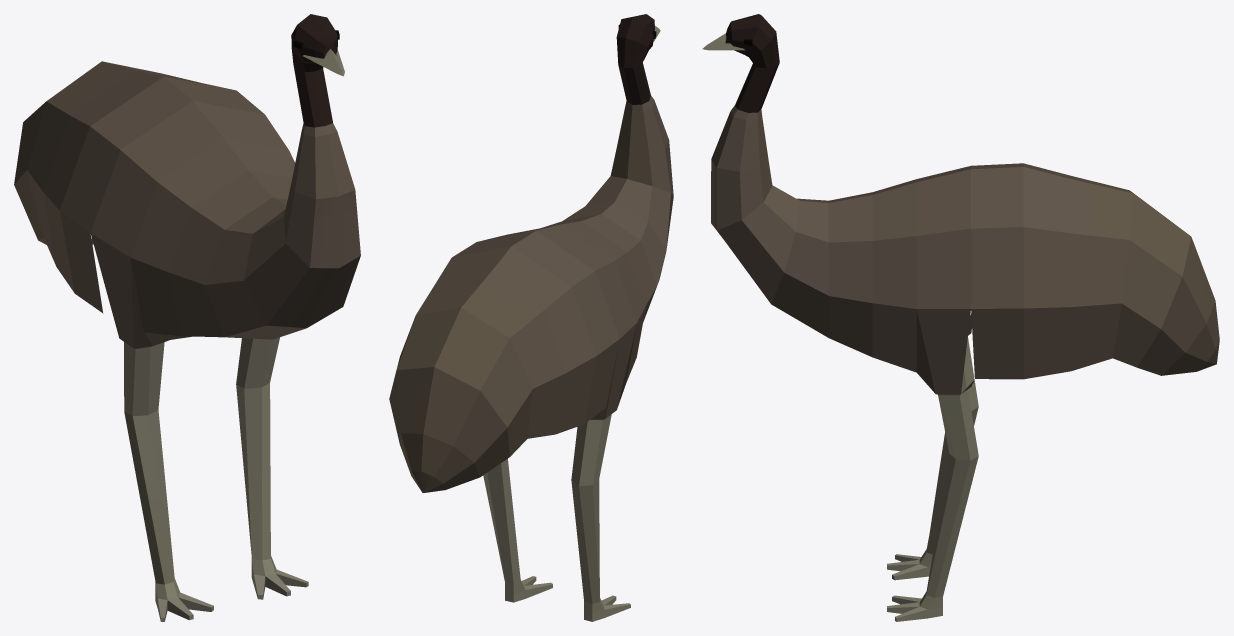
Rendered from prop_pz_emu.glb.
3 views of the same model, side by side, from view 1: azimuth 30°, elevation 25°; view 2: azimuth 150°, elevation 25°; view 3: azimuth 270°, elevation 25° (orthographic). The views are drawn at different scales.
Parts seen in each view (by area): view 1: Geo_Emu; view 2: Geo_Emu; view 3: Geo_Emu.
Part boxes in pixels (bbox=[...]): Geo_Emu: bbox=[14, 14, 360, 621]; Geo_Emu: bbox=[389, 14, 673, 621]; Geo_Emu: bbox=[702, 14, 1219, 621].
Size of the model in its own units: 59.65 by 178 by 145.
1 material, 1 textured.
